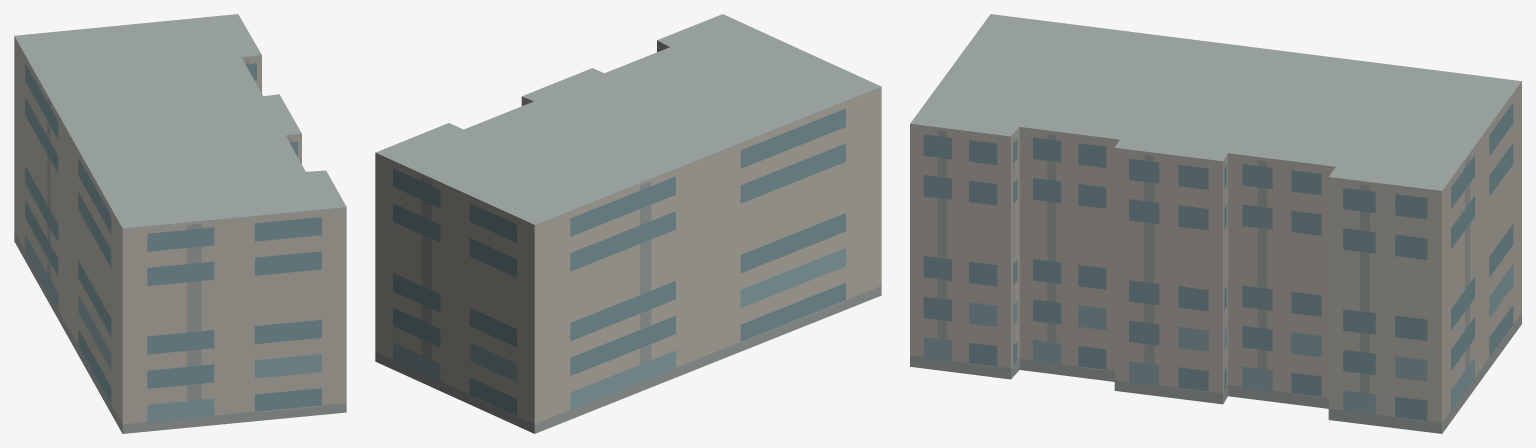
The model's file is survey-upis-32817013.glb.
The picture shows the model from 3 angles, left to right: view 1: azimuth 30°, elevation 25°; view 2: azimuth 150°, elevation 25°; view 3: azimuth 270°, elevation 25°; orthographic projection. The views are drawn at different scales.
Parts seen in each view (by area): view 1: survey-upis-32817013.tmp; view 2: survey-upis-32817013.tmp; view 3: survey-upis-32817013.tmp.
Boxes of the visible parts, x1,y1,x2,y2 form: survey-upis-32817013.tmp: (14,14,346,433); survey-upis-32817013.tmp: (375,14,881,433); survey-upis-32817013.tmp: (910,14,1521,433).
Size of the model in its own units: 28.27 by 18.1 by 41.31.
